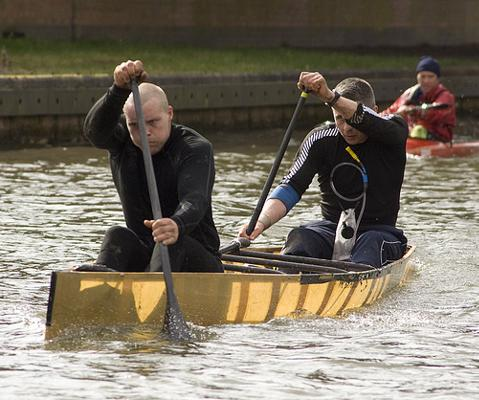person: (238, 78, 409, 271)
